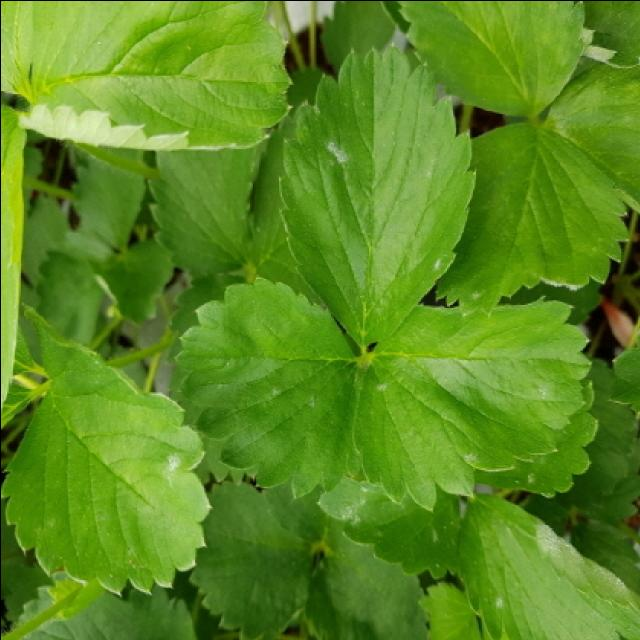Powdery Mildew Leaf: (275, 39, 477, 350), (350, 294, 592, 509), (0, 362, 213, 597), (433, 121, 635, 315), (454, 493, 638, 640), (316, 477, 466, 582)
